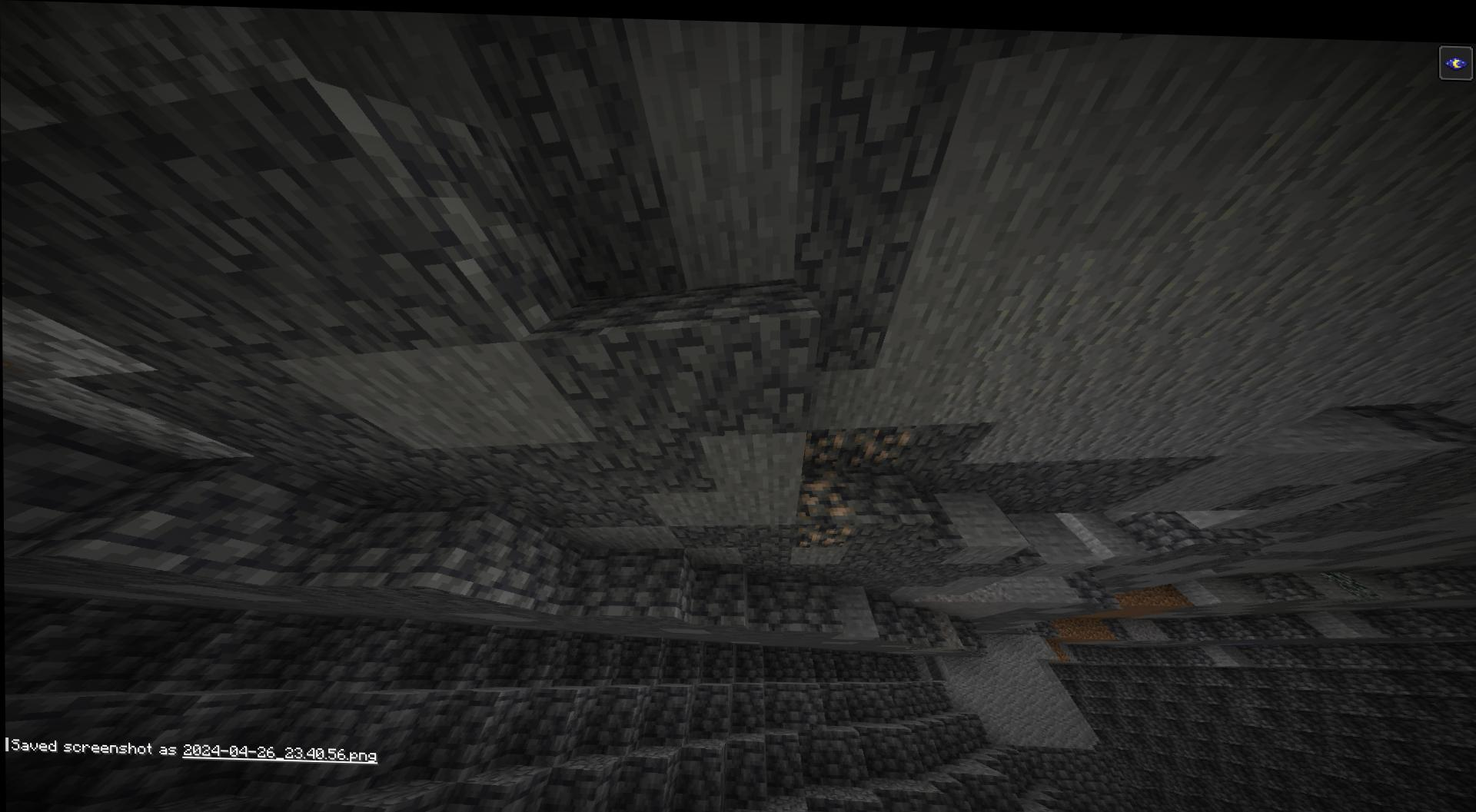iron ore: (846, 421, 912, 466), (794, 473, 852, 517), (799, 427, 847, 469), (795, 519, 860, 545)
